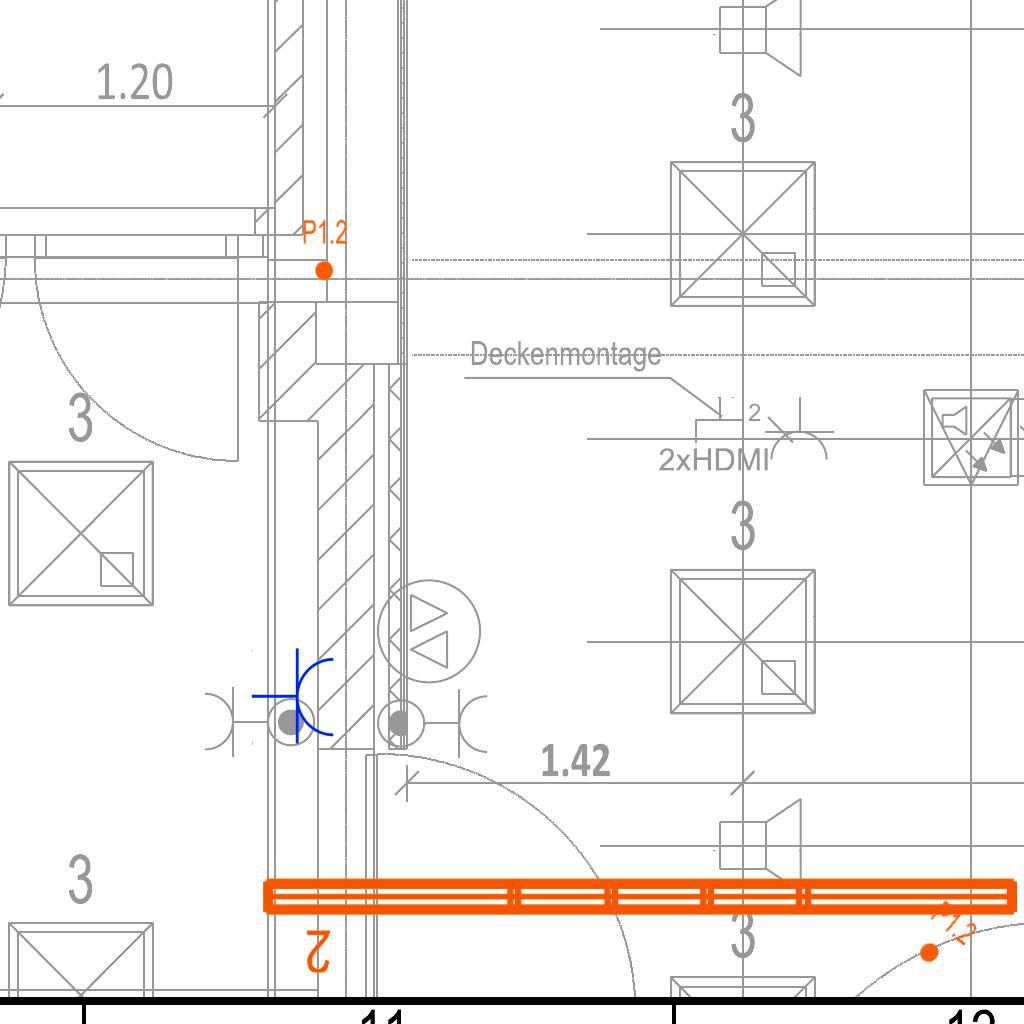Ambulanz_Pendelleuchte_LED: (254, 866, 1024, 978)
Downlight_LED_Einbauleuchten_Flur: (904, 897, 982, 977), (302, 218, 348, 282)
Schukosteckdose_einfach: (251, 647, 338, 747)
